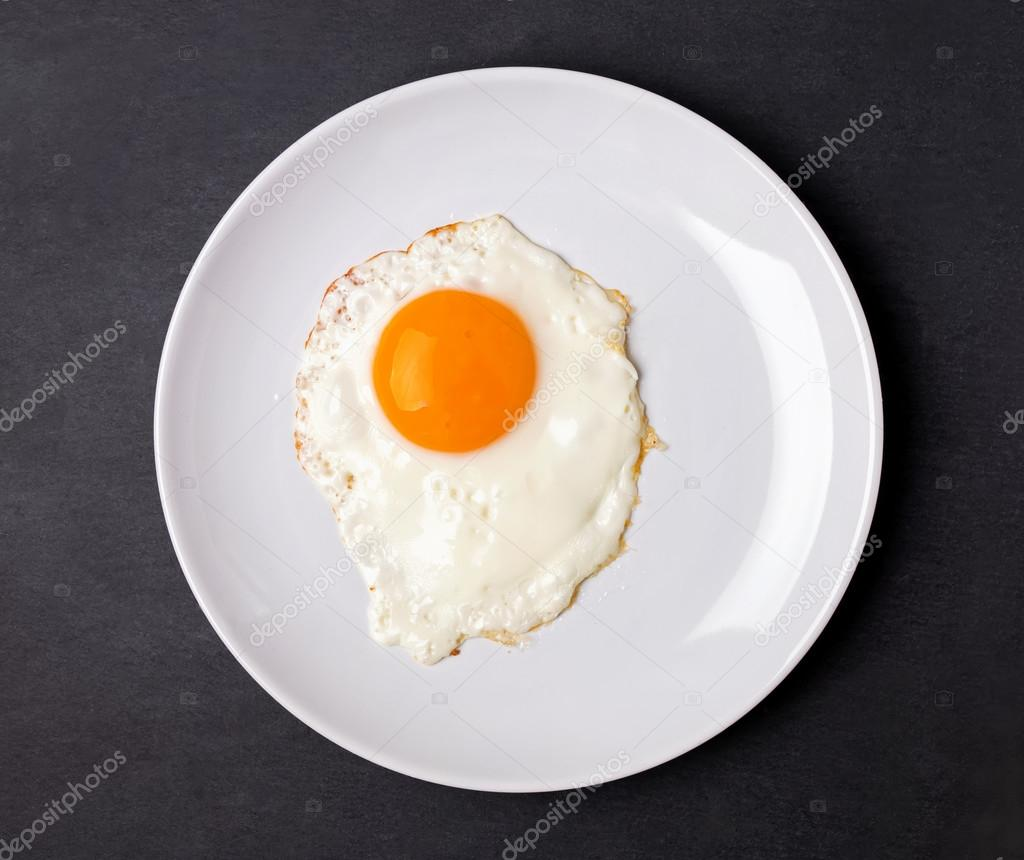fried egg: (309, 237, 642, 648)
